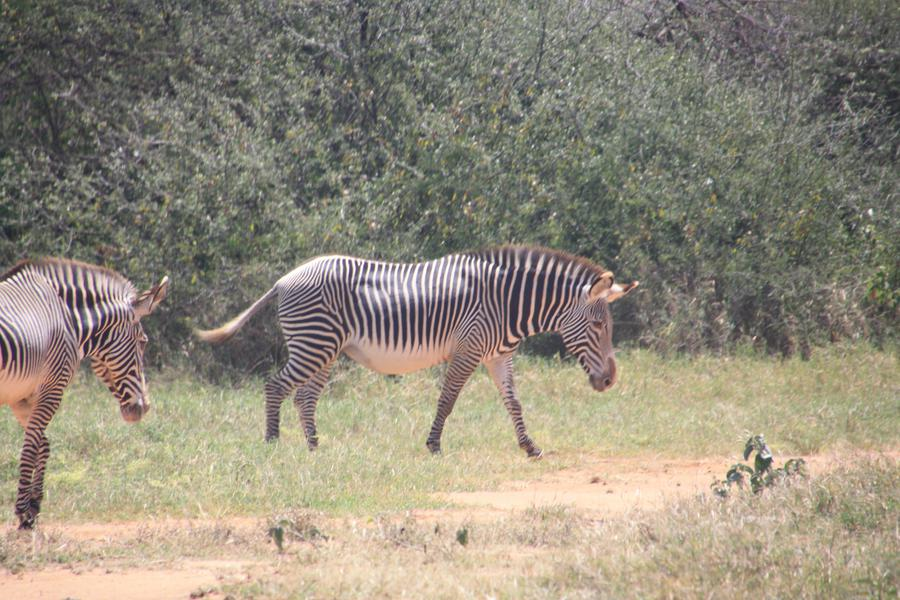zebra_grevys: (256, 243, 499, 362)
